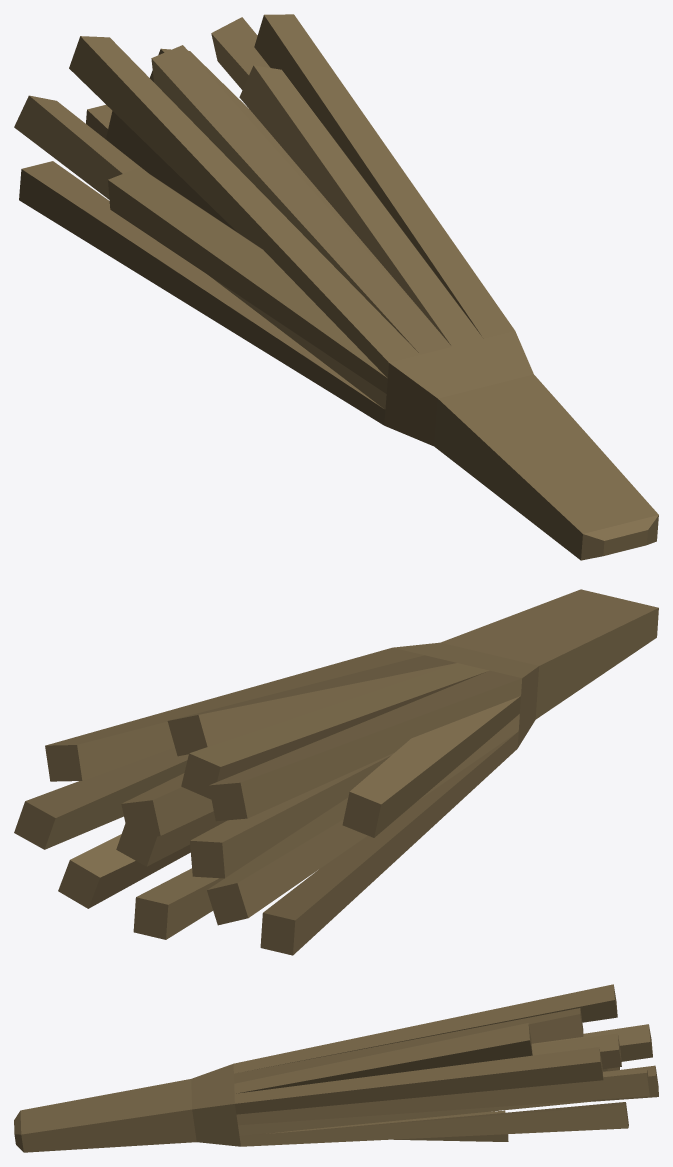
Rendered from flax_scratch_for_linen_comb.fbx.
The picture shows the model from 3 angles, top to bottom: view 1: azimuth 30°, elevation 25°; view 2: azimuth 150°, elevation 25°; view 3: azimuth 270°, elevation 25°; orthographic projection. The views are drawn at different scales.
Visible parts, largest first — view 1: flax_scratch; view 2: flax_scratch; view 3: flax_scratch.
Boxes of the visible parts, left/top/right/bottom form: flax_scratch: left=14, top=14, right=658, bottom=560; flax_scratch: left=14, top=589, right=658, bottom=955; flax_scratch: left=14, top=984, right=658, bottom=1152.
Size of the model in its own units: 10.82 by 8 by 35.9.
